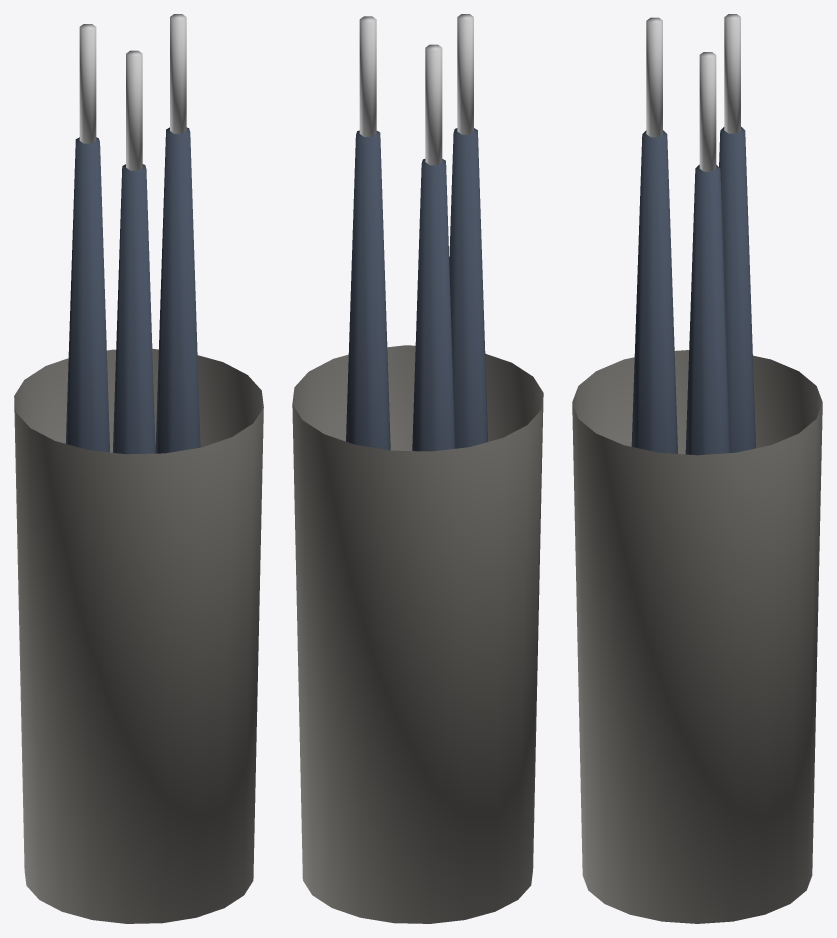
File: UmbrellaStand.gltf
3 views of the same model, side by side, from view 1: azimuth 30°, elevation 25°; view 2: azimuth 150°, elevation 25°; view 3: azimuth 270°, elevation 25° (orthographic).
Visible parts, largest first — view 1: A_UmbrellaStand; view 2: A_UmbrellaStand; view 3: A_UmbrellaStand.
Part boxes in pixels (bbox=[...]): A_UmbrellaStand: bbox=[14, 14, 263, 923]; A_UmbrellaStand: bbox=[292, 14, 543, 923]; A_UmbrellaStand: bbox=[572, 14, 822, 923].
Size of the model in its own units: 0.24 by 0.89 by 0.24.
